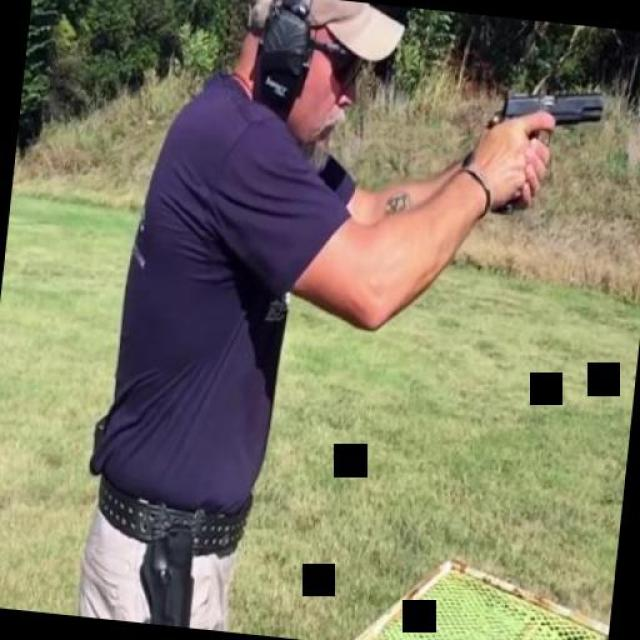gun: (479, 77, 606, 225)
